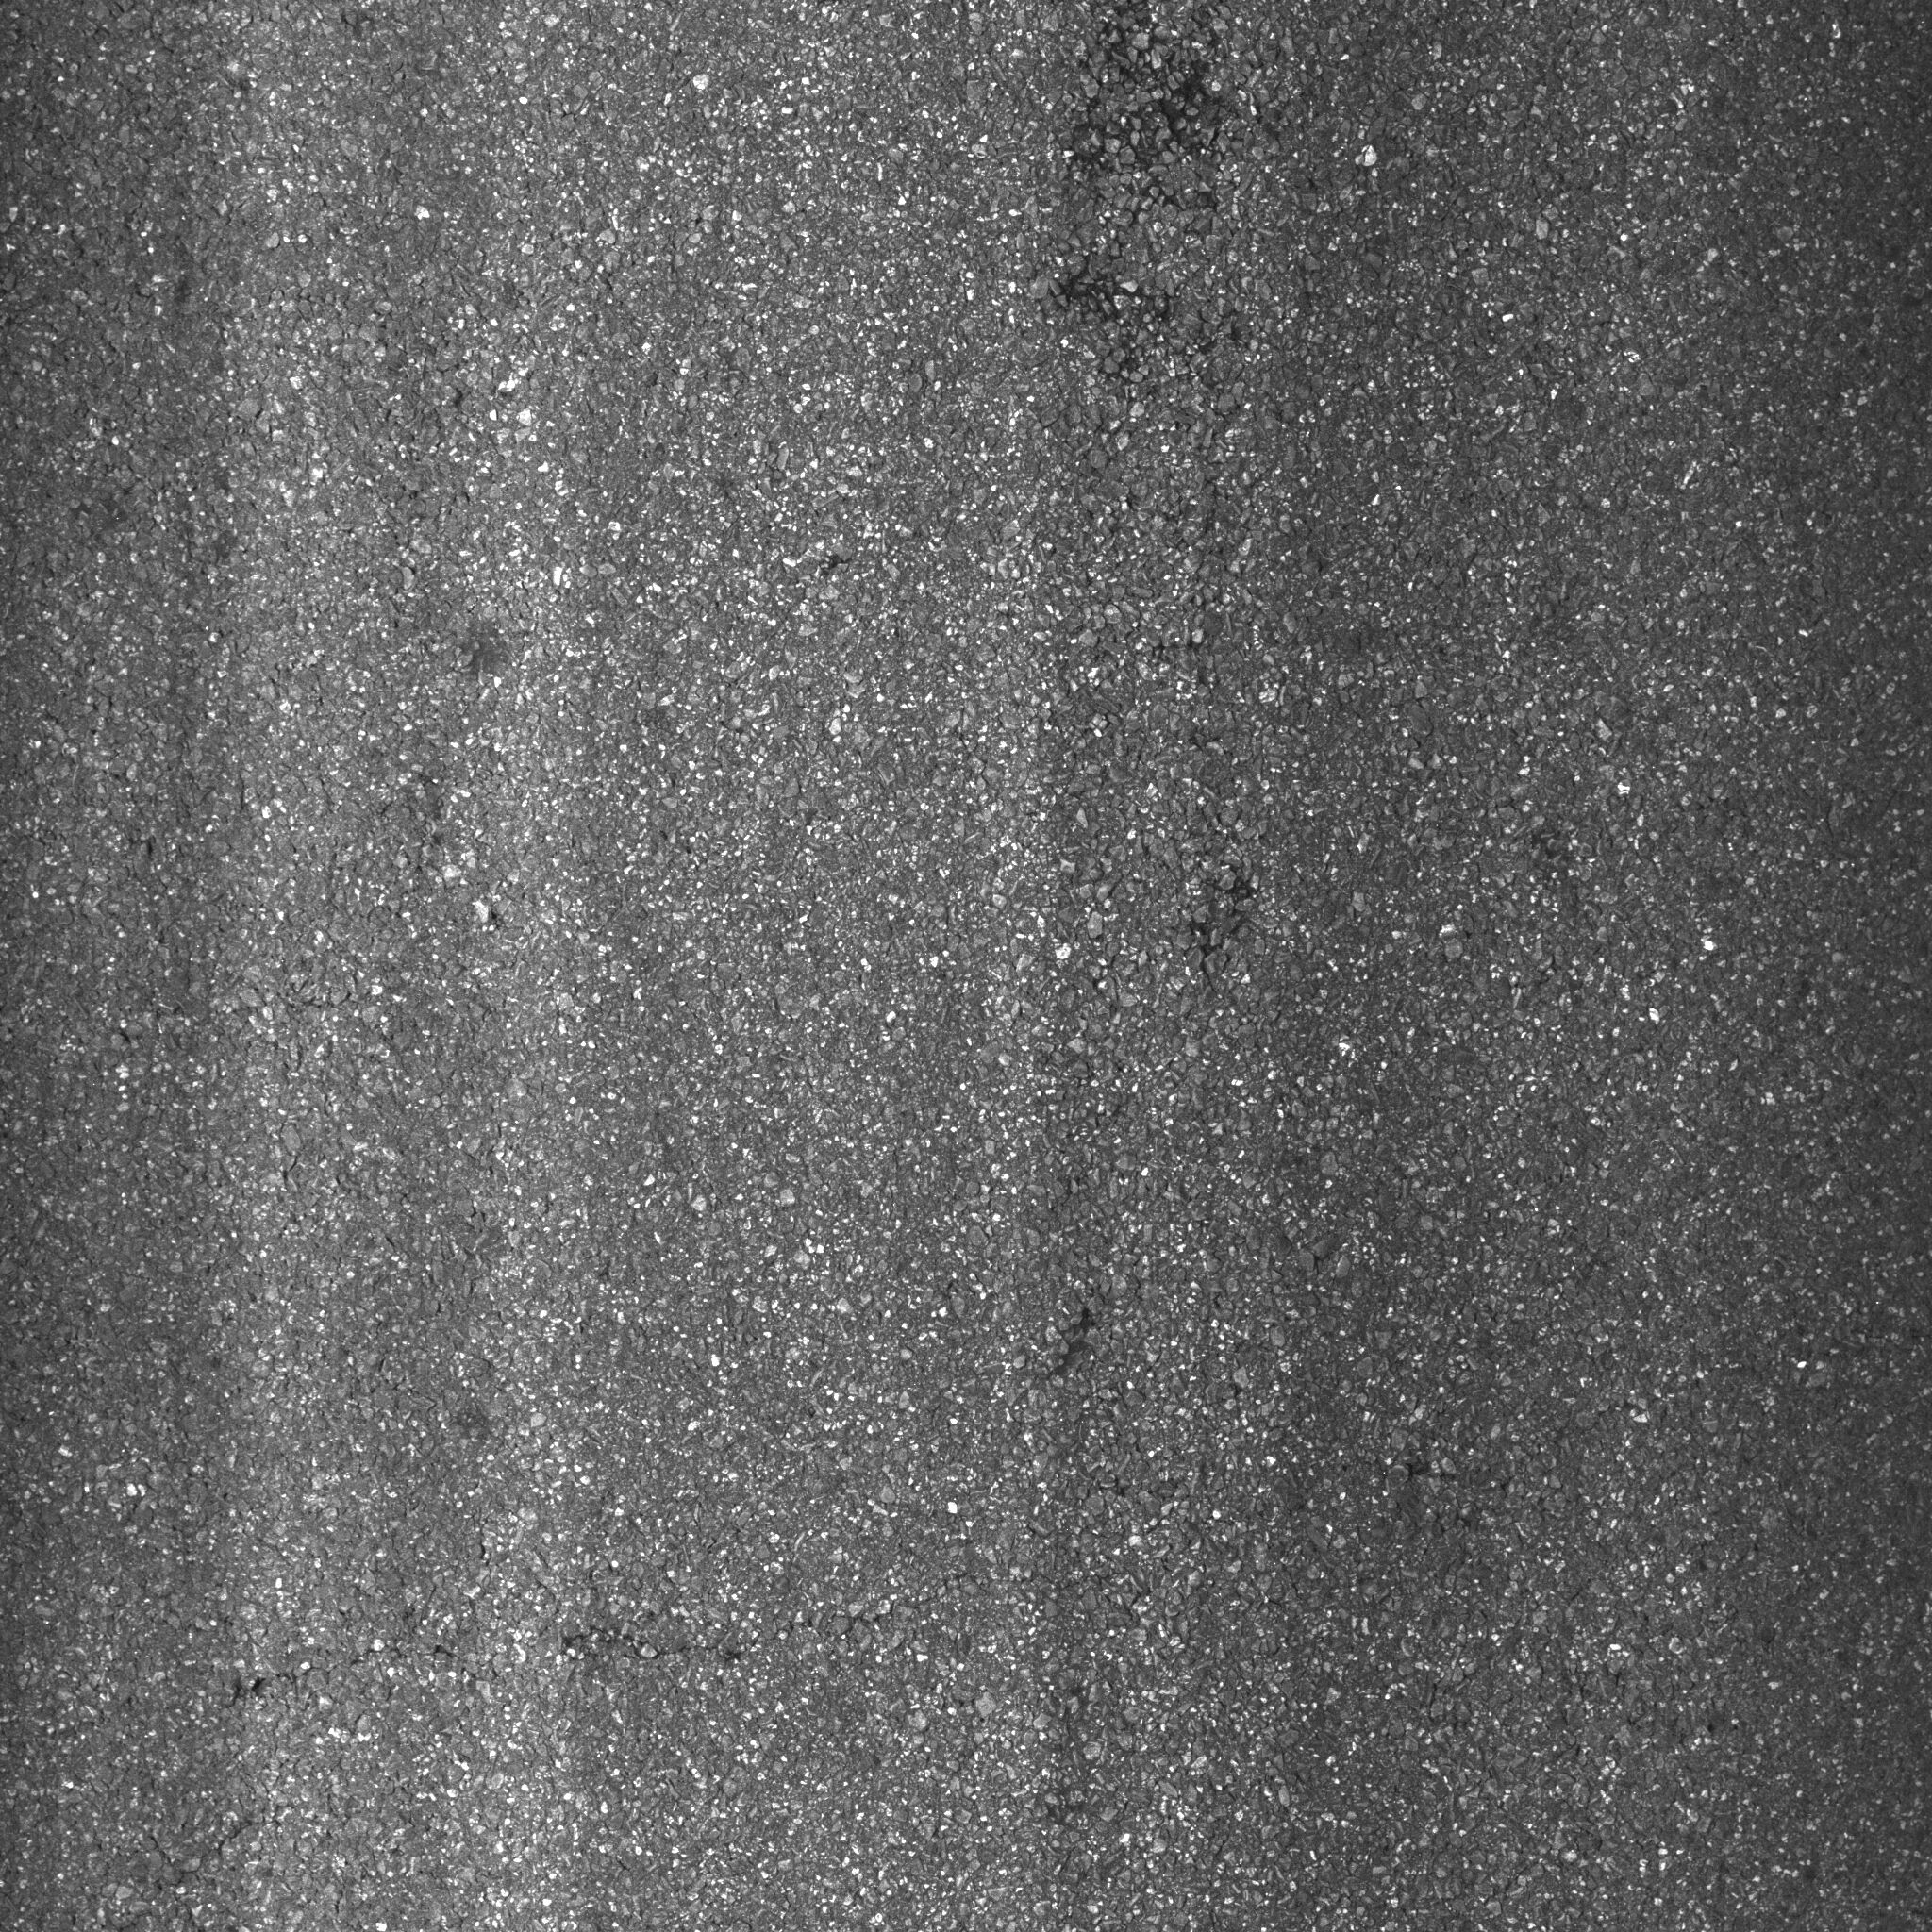transeverse: (195, 1598, 899, 1730)
